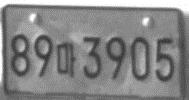0: (130, 36, 151, 82)
3: (82, 36, 102, 80)
5: (154, 36, 174, 82)
8: (9, 33, 31, 77)
9: (105, 37, 126, 80), (33, 33, 53, 77)
마: (55, 40, 77, 78)
